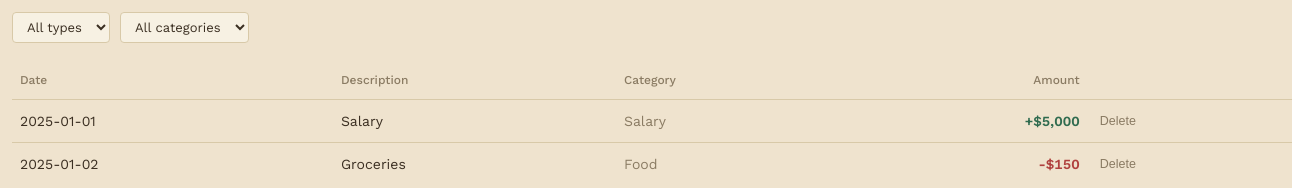
Test: TransactionList › filters by type
Select "Income" in the dropdown named "Filter by type" at coordinates (61, 28), box [12,12,110,43]
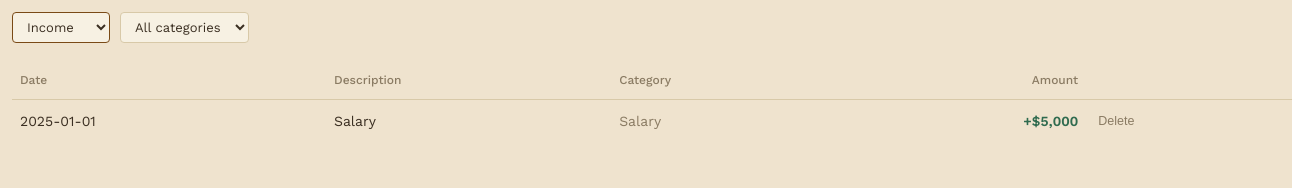
Expected: the text "Salary" is shown, [326,100,611,142]
Expected: the text "Groceries" is gone
